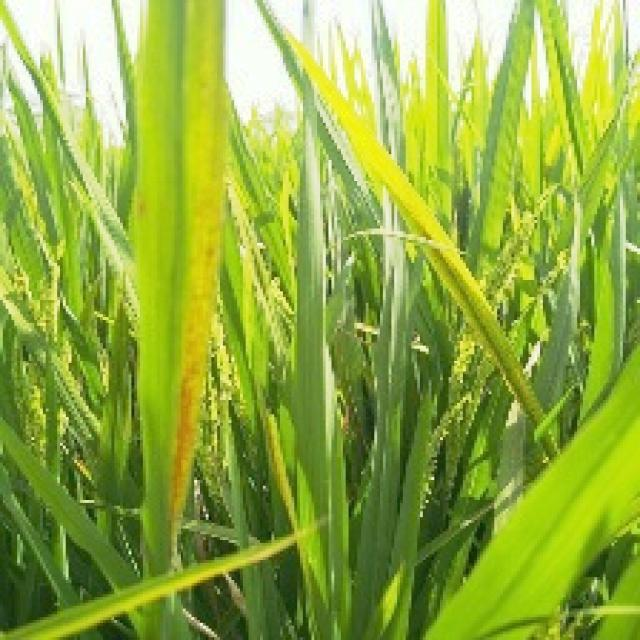-: (303, 428, 640, 640)
